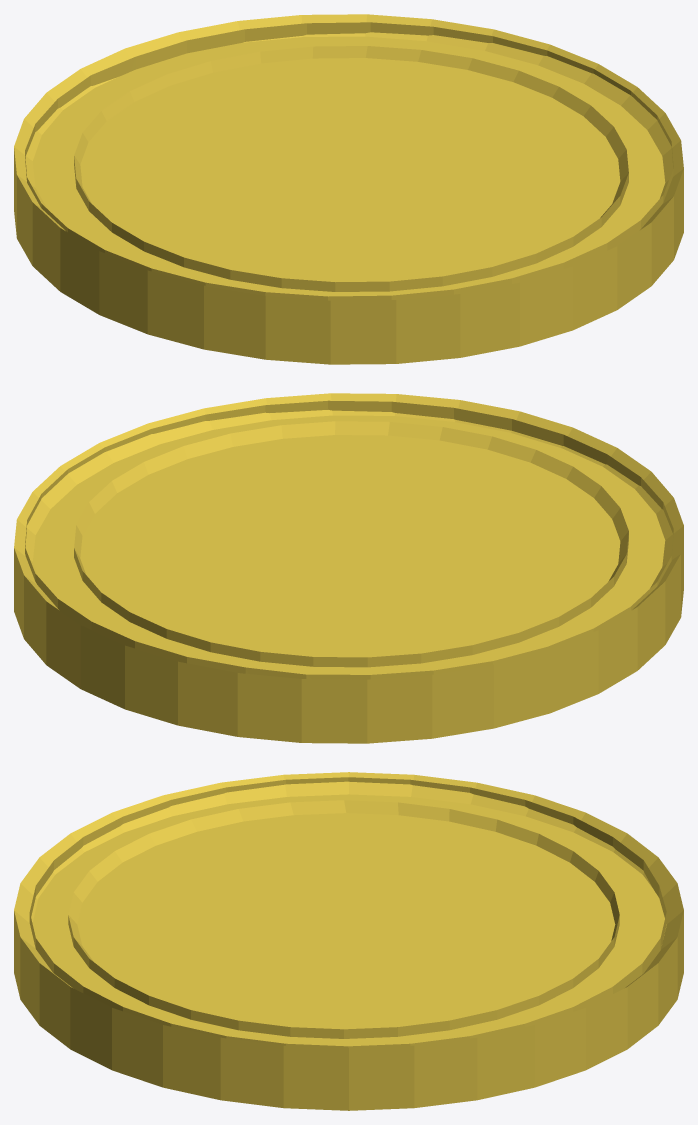
The picture shows the model from 3 angles, top to bottom: view 1: azimuth 30°, elevation 25°; view 2: azimuth 150°, elevation 25°; view 3: azimuth 270°, elevation 25°; orthographic projection. The views are drawn at different scales.
Visible parts, largest first — view 1: Cylinder; view 2: Cylinder; view 3: Cylinder.
Part boxes in pixels (left/top/right/bottom): Cylinder: left=14, top=14, right=683, bottom=364; Cylinder: left=14, top=393, right=683, bottom=743; Cylinder: left=14, top=772, right=683, bottom=1110.
Bounding box in the file's own units: 205 × 21.72 × 210.
